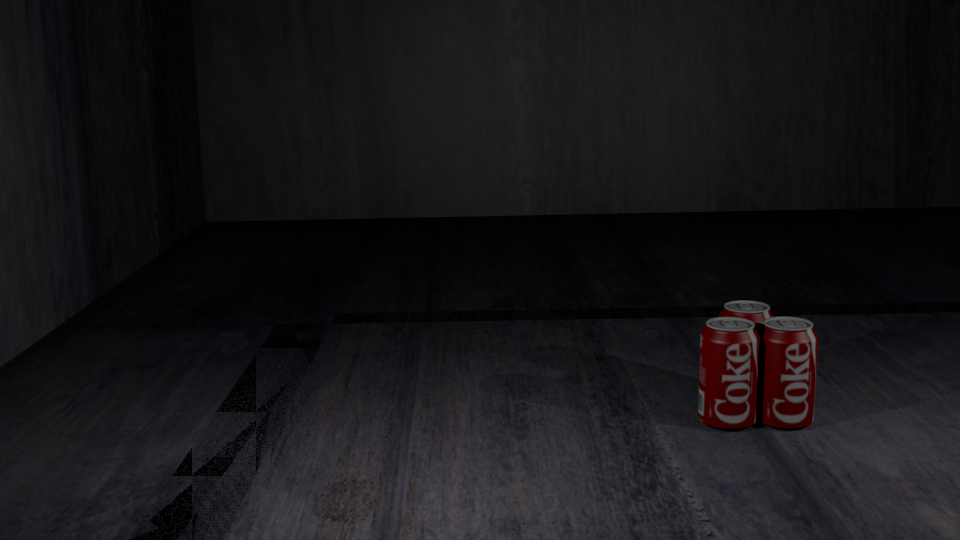cola_can: (699, 317, 759, 426), (757, 317, 817, 424), (720, 301, 773, 403)
